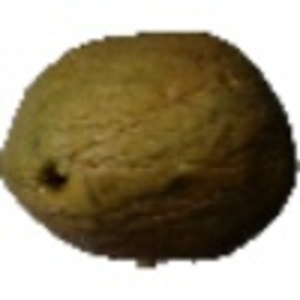mamão: (2, 17, 293, 261)
